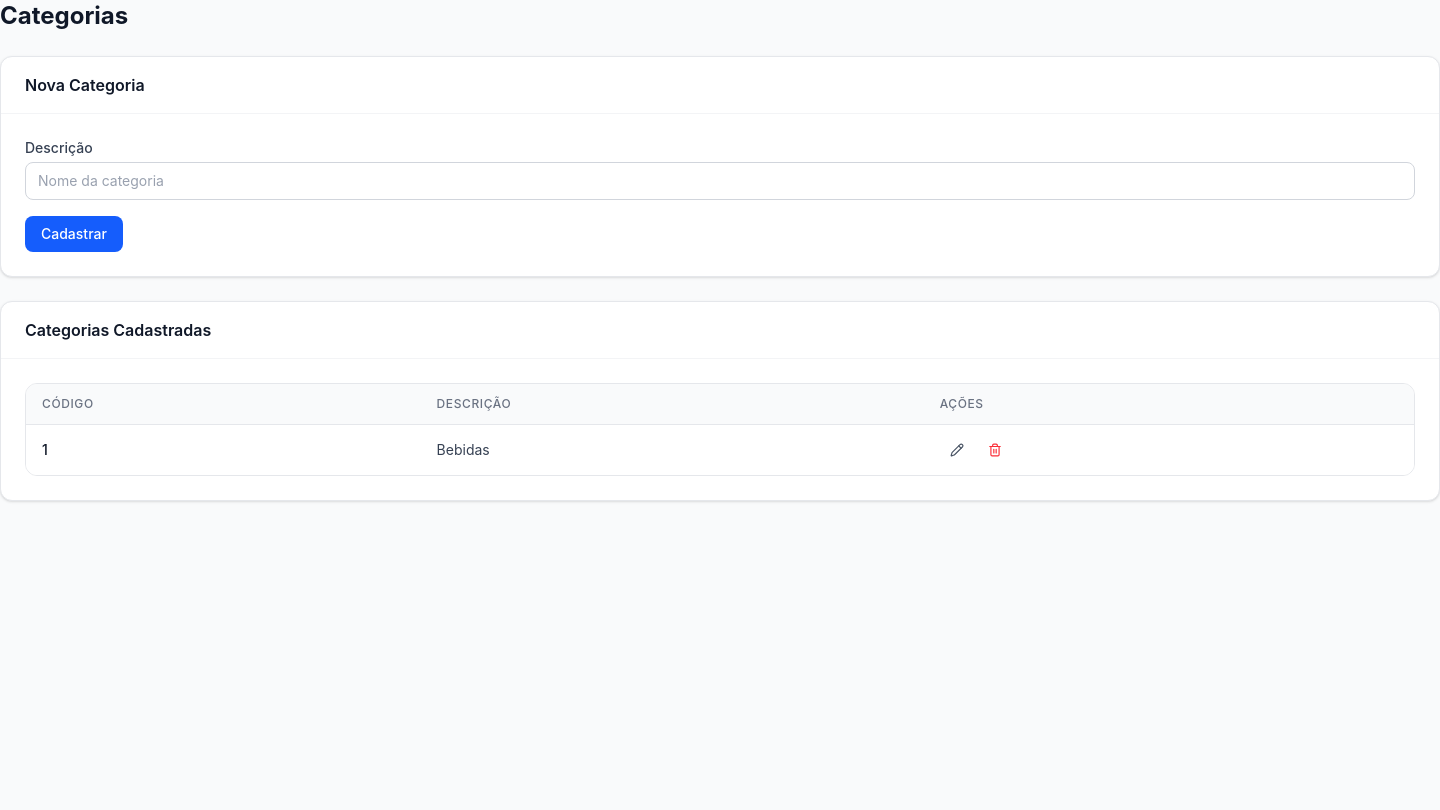
Test: CategoriaPage › should close the confirm modal when cancelling delete
Step 1. Click the button titled "Excluir" → (995, 450), box [978,437,1012,463]
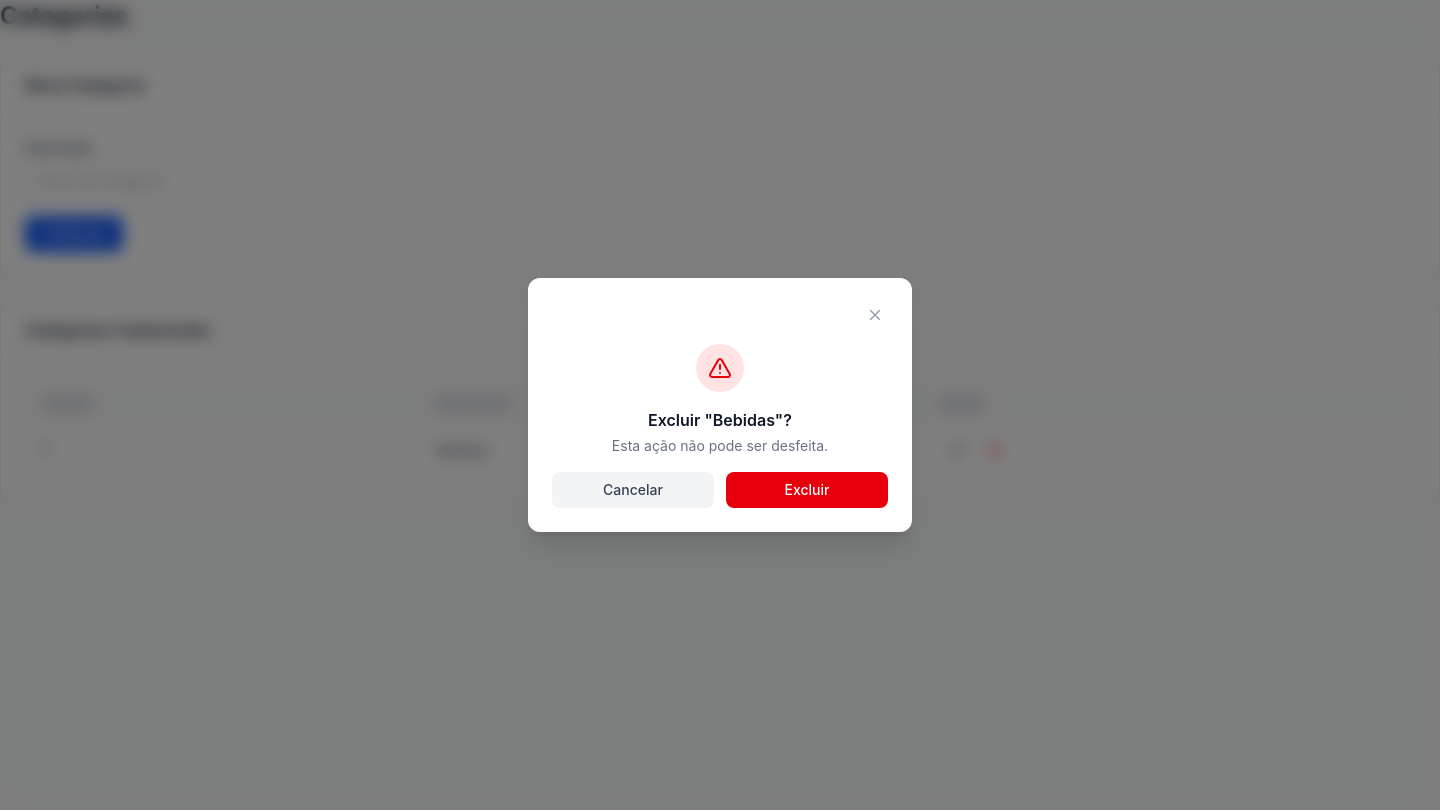
Step 2. Click the button "Cancelar" → (633, 490), box [552,472,714,508]
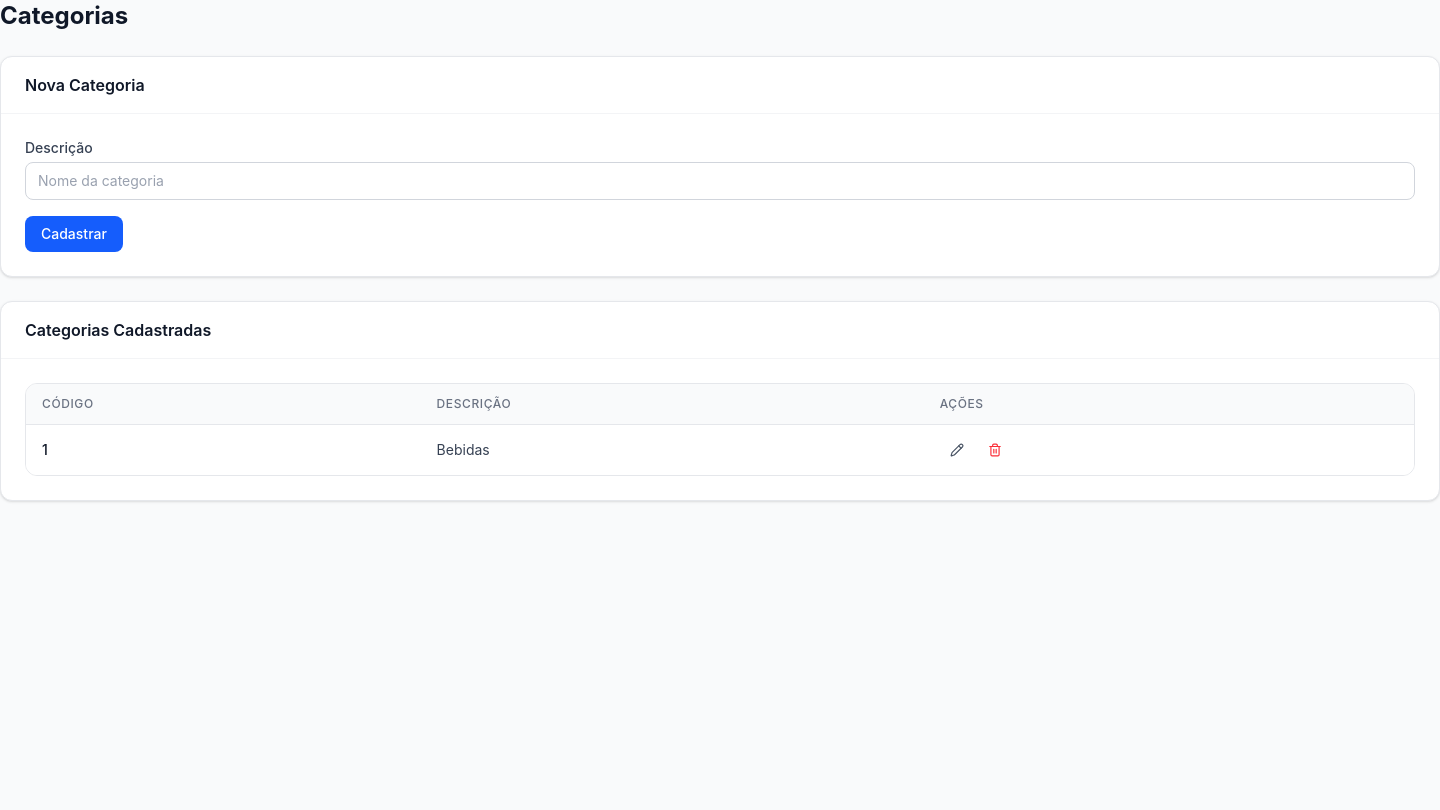
Check: the text "Esta ação não pode ser desfeita." is gone
